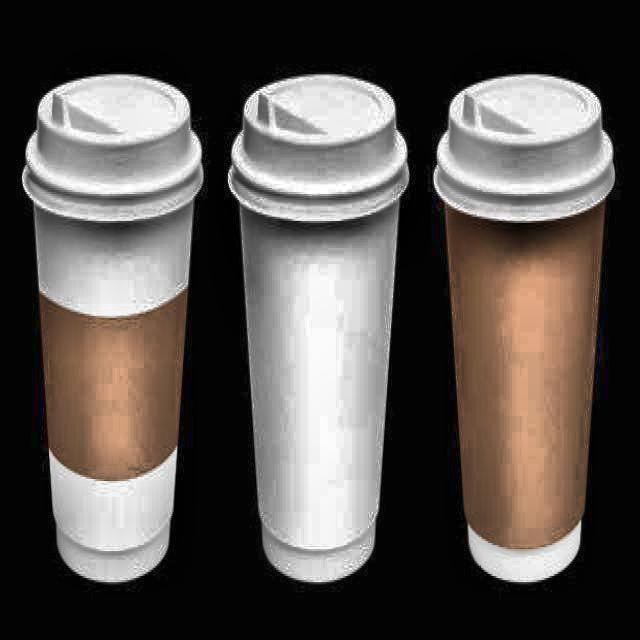cardboard: (434, 76, 614, 587)
plastic: (226, 75, 410, 588), (22, 75, 205, 587)
